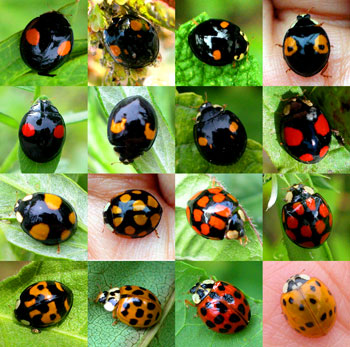other: (13, 279, 73, 331)
rash: (280, 182, 333, 249), (184, 186, 247, 242), (103, 189, 163, 239)
red: (278, 274, 338, 338), (187, 277, 252, 334), (95, 283, 163, 329)
two_spots: (18, 9, 76, 77), (192, 101, 248, 166), (107, 93, 157, 165), (283, 13, 331, 79), (18, 100, 68, 163), (103, 14, 161, 67), (188, 18, 250, 66)
two_spots_mutant: (275, 92, 331, 164), (12, 191, 78, 246)
